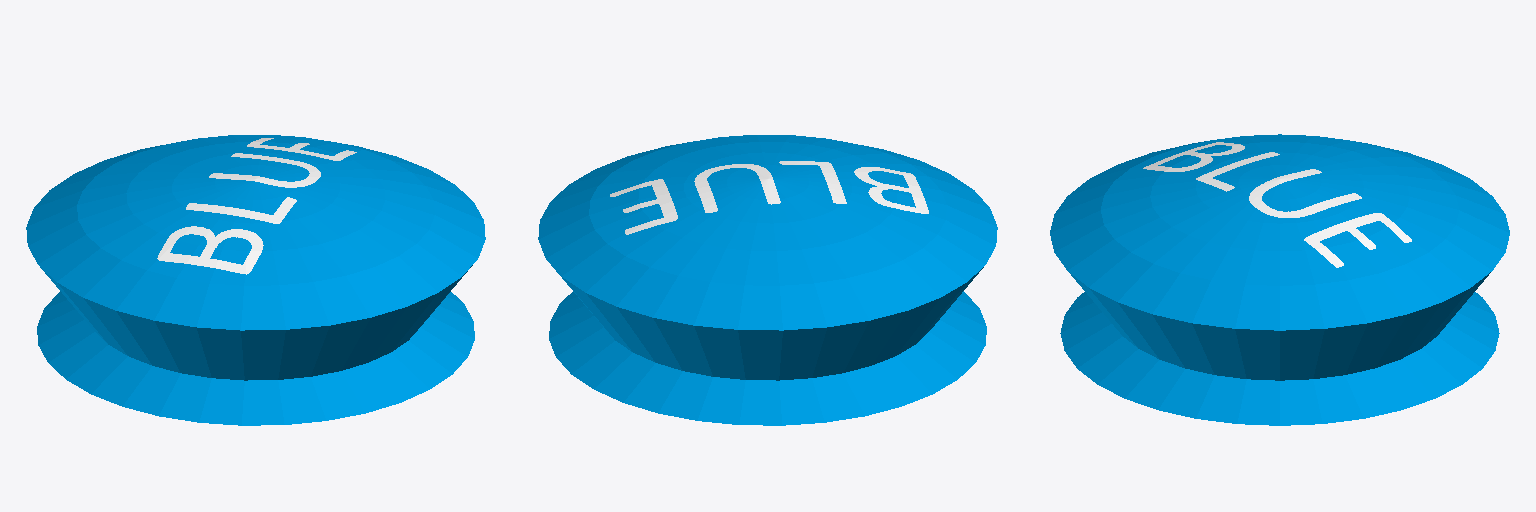
3 renders of one model, left to right at view 1: azimuth 30°, elevation 25°; view 2: azimuth 150°, elevation 25°; view 3: azimuth 270°, elevation 25°, orthographic.
Visible parts, largest first — view 1: Sphere; view 2: Sphere; view 3: Sphere.
Part boxes in pixels (bbox=[...]): Sphere: bbox=[26, 135, 485, 425]; Sphere: bbox=[538, 135, 997, 425]; Sphere: bbox=[1050, 134, 1509, 425].
Size of the model in its own units: 2.06 by 0.7606 by 2.06.
Materials: 1 (1 with a texture image).